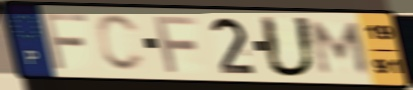2: (210, 16, 258, 76)
C: (93, 12, 149, 74)
F: (39, 11, 90, 72), (151, 13, 200, 75)
M: (309, 19, 373, 77)
U: (257, 13, 320, 80)
